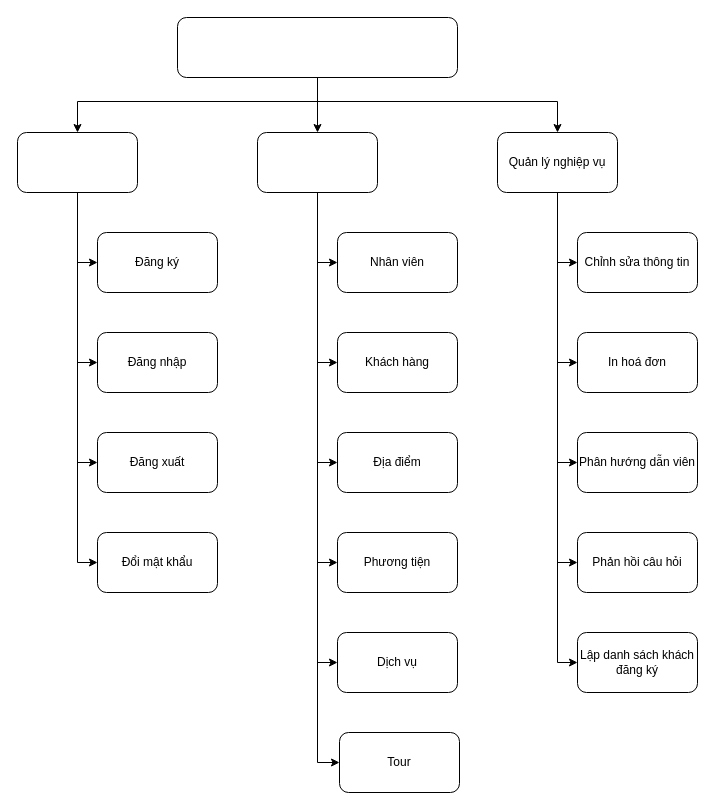
The diagram is 715 pixels wide and 810 high, and some of its shapes have lost their labels. Each missing label, with the centre of its shape:
"BACKEND" belongs at pixel 317 47.
"Quản lý danh mục" belongs at pixel 317 162.
"Quản trị hệ thống" belongs at pixel 77 162.
